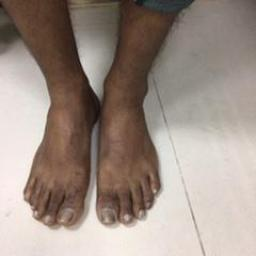Dorsal View -Both Feet-: (15, 54, 172, 239)
